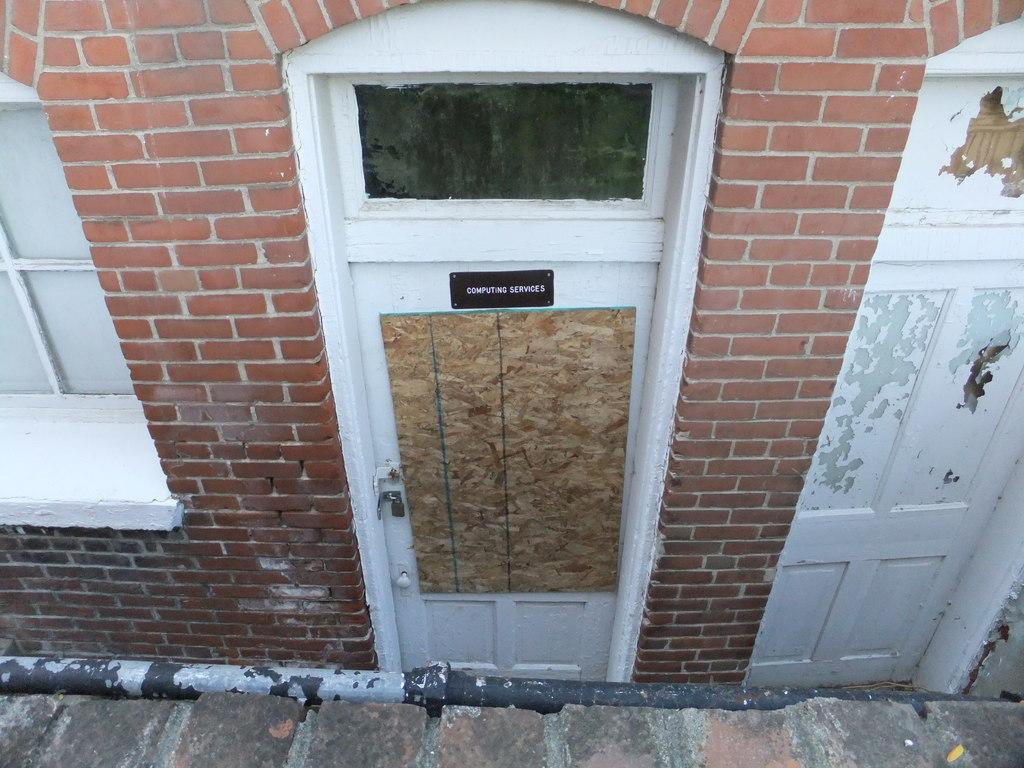door: (385, 276, 607, 673)
handle: (376, 484, 406, 524)
